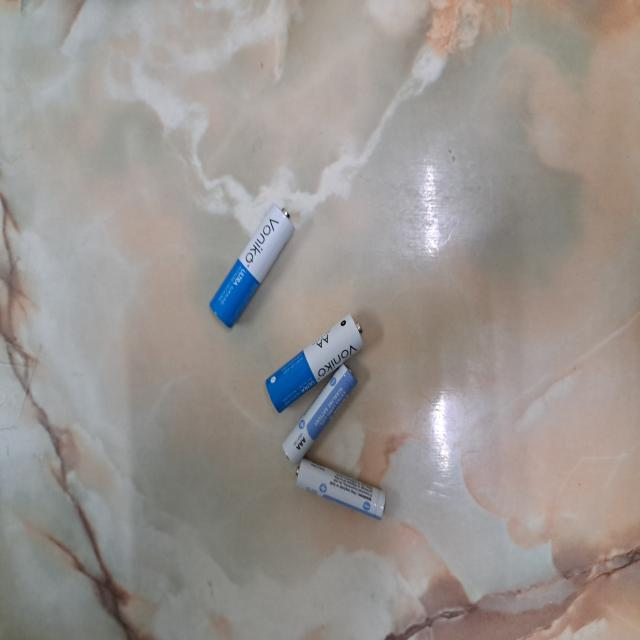battery: (210, 204, 295, 329), (266, 313, 364, 413), (281, 362, 358, 465), (295, 458, 387, 522)
